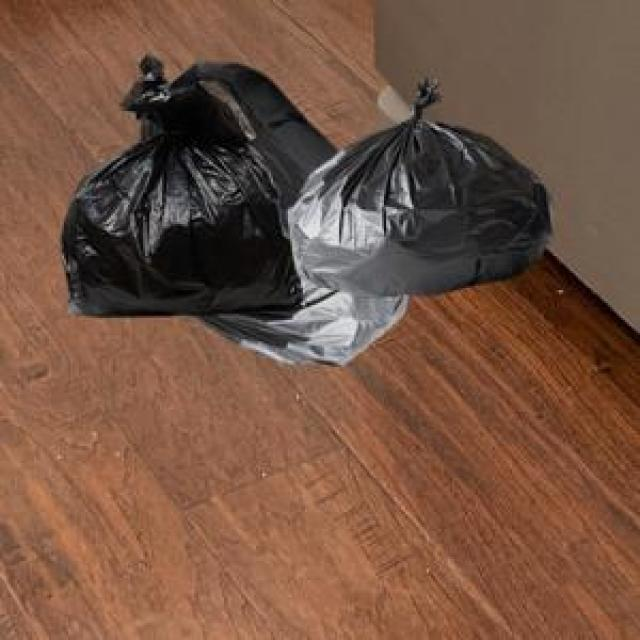Vinyl: (66, 60, 550, 363)
